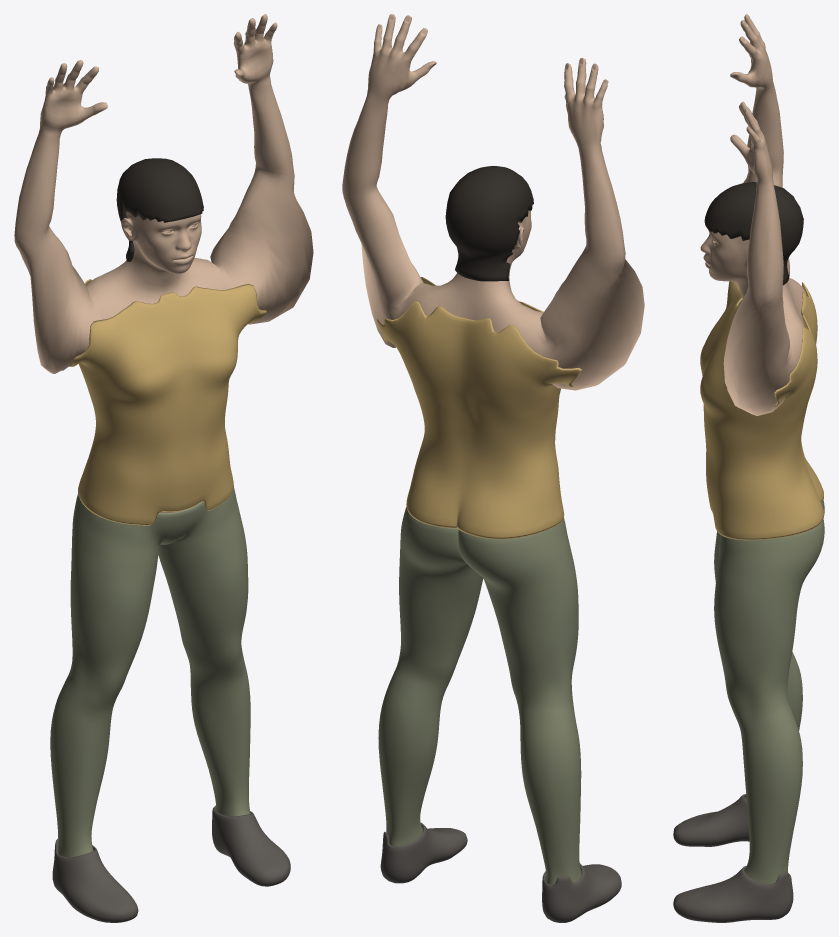
File: 3-charB-prone.glb
The picture shows the model from 3 angles, left to right: view 1: azimuth 30°, elevation 25°; view 2: azimuth 150°, elevation 25°; view 3: azimuth 270°, elevation 25°; orthographic projection. The views are drawn at different scales.
Parts seen in each view (by area): view 1: pants, Human, shirt, shoes, hair; view 2: pants, Human, shirt, hair, shoes; view 3: pants, shirt, Human, shoes, hair.
Boxes of the visible parts, bbox=[...] form: pants: bbox=[50, 487, 250, 857]; Human: bbox=[14, 14, 313, 512]; shirt: bbox=[69, 279, 266, 525]; shoes: bbox=[52, 805, 290, 922]; hair: bbox=[116, 158, 203, 261]; pants: bbox=[378, 506, 581, 884]; Human: bbox=[342, 14, 644, 390]; shirt: bbox=[377, 277, 581, 539]; hair: bbox=[445, 166, 533, 281]; shoes: bbox=[380, 822, 621, 922]; pants: bbox=[714, 499, 824, 883]; shirt: bbox=[700, 281, 823, 540]; Human: bbox=[700, 14, 806, 415]; shoes: bbox=[673, 794, 793, 922]; hair: bbox=[704, 182, 803, 285].
Bounding box in the file's own units: 0.6833 × 1.98 × 0.3322.
